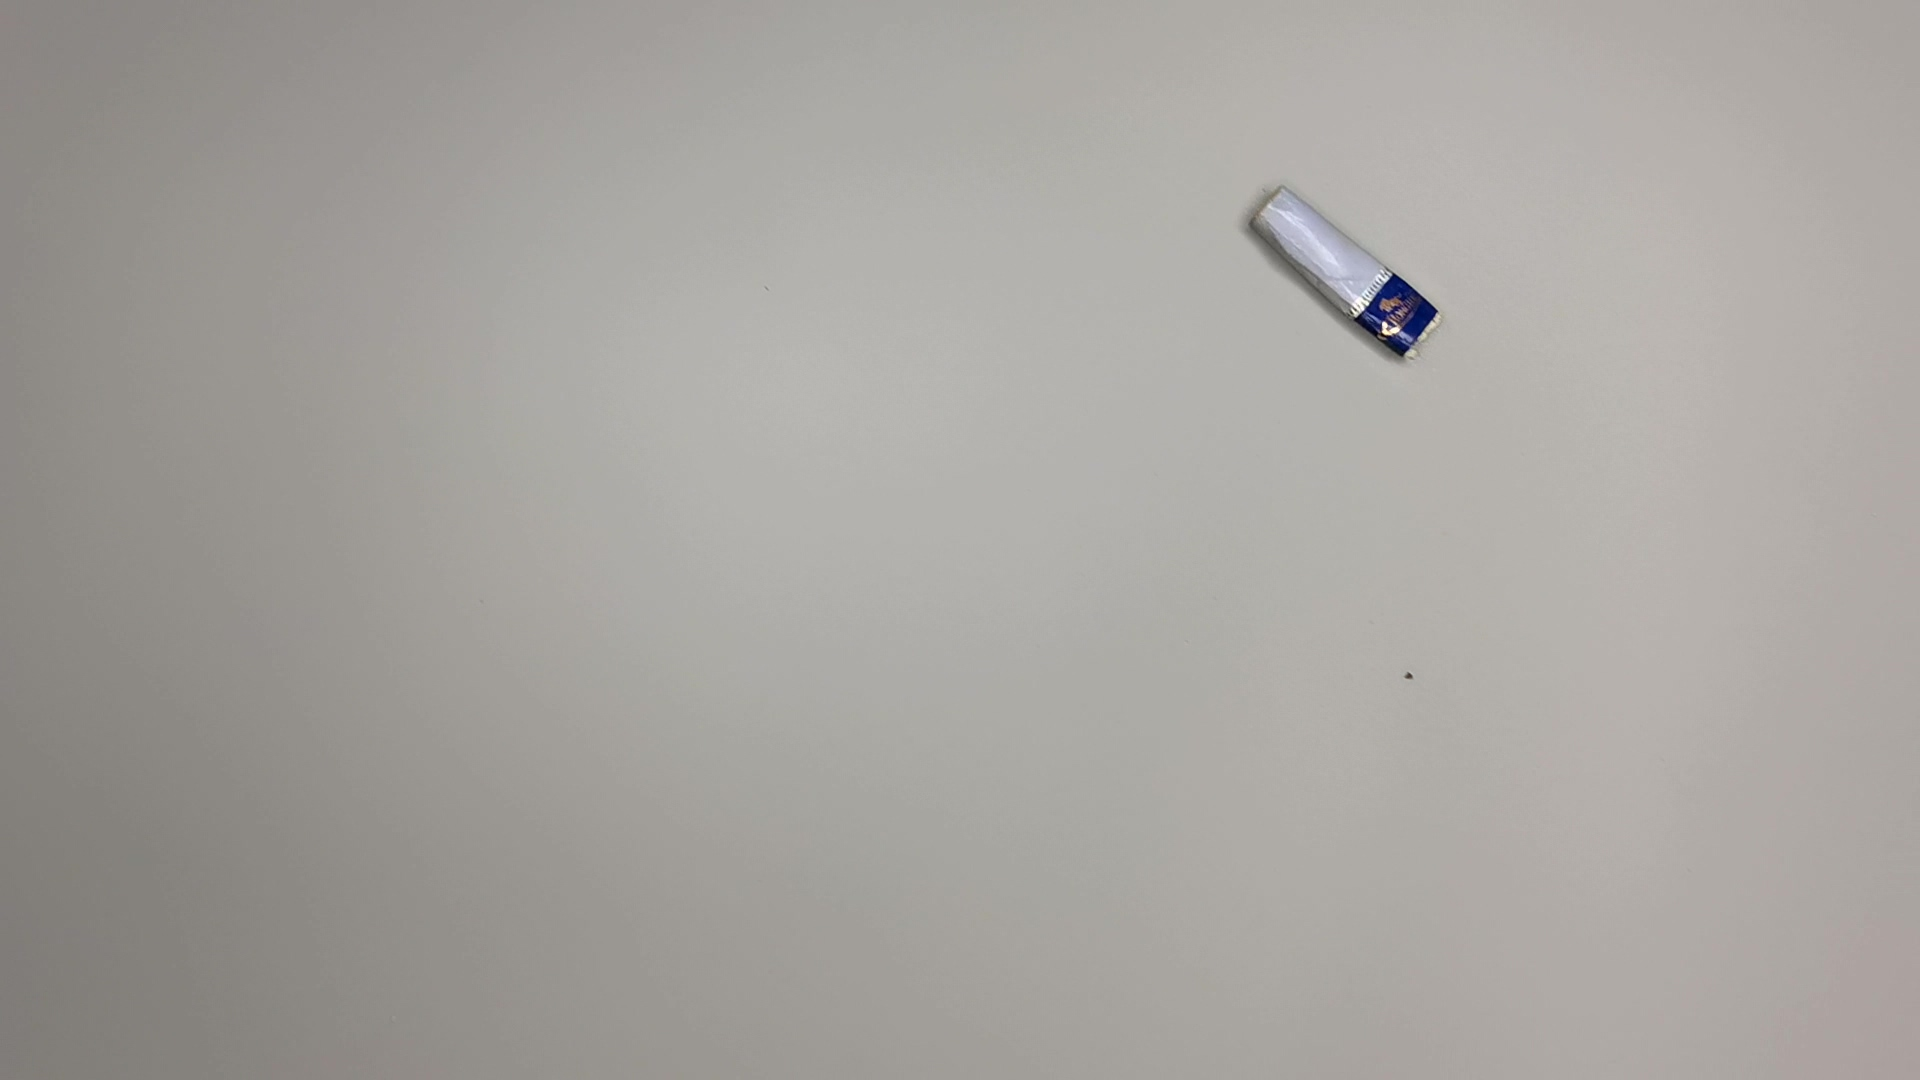cigarette: (1244, 183, 1448, 369)
